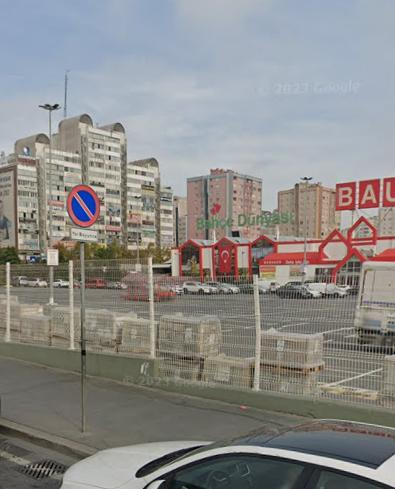nopark: (68, 187, 100, 226)
